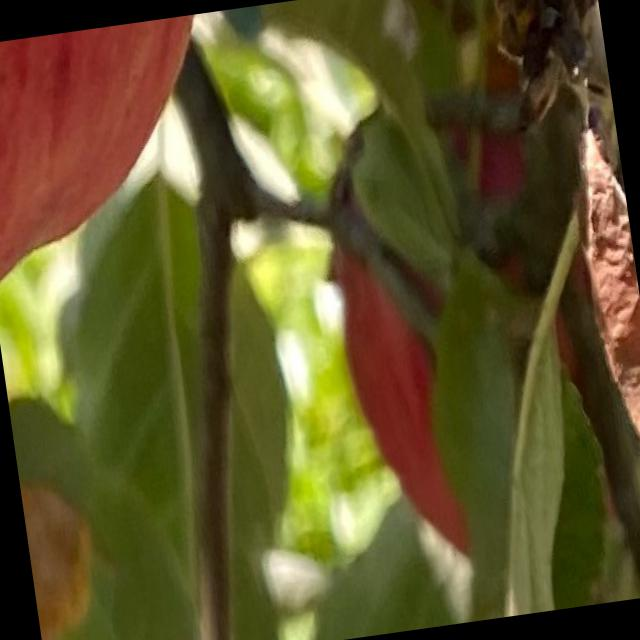Apples: (314, 80, 622, 574), (0, 14, 234, 291)
